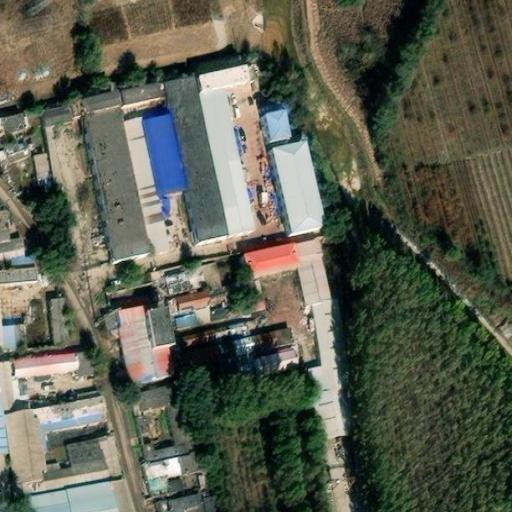building: (165, 77, 229, 241), (5, 396, 120, 484), (85, 107, 152, 256), (124, 114, 188, 253), (199, 88, 256, 234), (309, 298, 352, 438), (273, 139, 325, 232), (143, 405, 194, 462), (143, 450, 202, 497), (293, 237, 334, 304), (103, 305, 155, 354), (125, 343, 184, 386), (151, 261, 222, 295), (235, 330, 293, 371), (67, 480, 137, 512), (318, 433, 358, 481), (13, 352, 92, 376), (167, 286, 230, 316), (184, 321, 249, 348), (246, 243, 298, 276), (132, 384, 184, 415), (104, 270, 155, 300), (195, 66, 249, 94), (253, 346, 301, 377), (0, 143, 31, 186), (147, 304, 177, 347), (326, 477, 362, 512), (119, 83, 168, 107), (49, 298, 73, 345), (21, 491, 70, 512), (209, 299, 253, 320), (82, 93, 122, 115), (158, 493, 204, 512), (265, 109, 293, 140), (0, 111, 28, 142), (171, 308, 212, 329), (0, 319, 26, 351), (246, 274, 267, 311), (0, 452, 15, 502), (40, 103, 71, 126), (34, 152, 53, 182), (0, 237, 26, 257), (201, 490, 219, 512), (11, 252, 37, 267), (0, 414, 10, 453)
